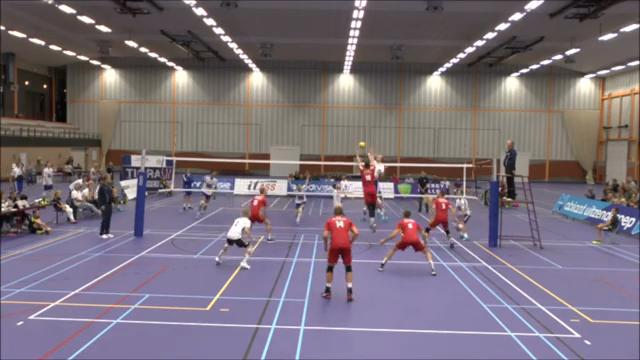Attack: (366, 137, 390, 223)
Block: (352, 146, 384, 235)
Player: (378, 210, 435, 275), (322, 206, 358, 301), (215, 209, 254, 269), (425, 191, 455, 248), (249, 187, 274, 242), (289, 172, 309, 223), (196, 171, 217, 217), (455, 197, 470, 240), (182, 169, 193, 210), (332, 183, 341, 207)
ball: (357, 139, 368, 151)
